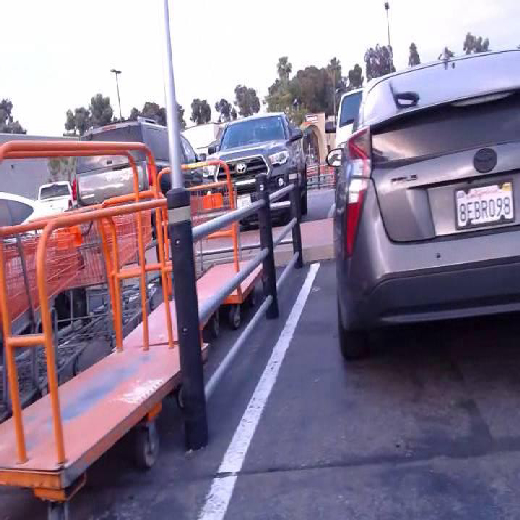license_plate: (454, 181, 512, 224)
vehicle: (336, 51, 520, 366)
